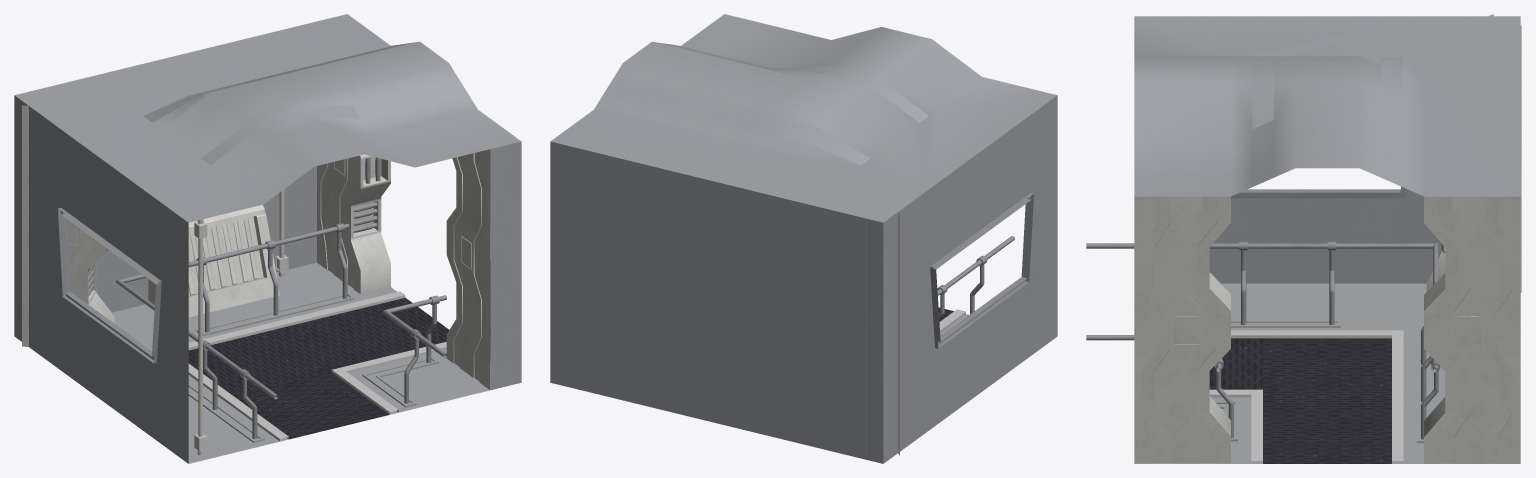
File: cornerTunnel.fbx
The picture shows the model from 3 angles, left to right: view 1: azimuth 30°, elevation 25°; view 2: azimuth 150°, elevation 25°; view 3: azimuth 270°, elevation 25°; orthographic projection. The views are drawn at different scales.
Visible parts, largest first — view 1: cornerTunnel; view 2: cornerTunnel; view 3: cornerTunnel.
Boxes of the visible parts, box(x1,y1,x2,y2) form: cornerTunnel: box(14, 14, 521, 463); cornerTunnel: box(550, 14, 1057, 463); cornerTunnel: box(1086, 14, 1521, 463).
Size of the model in its own units: 4.48 by 3.38 by 4.51.
